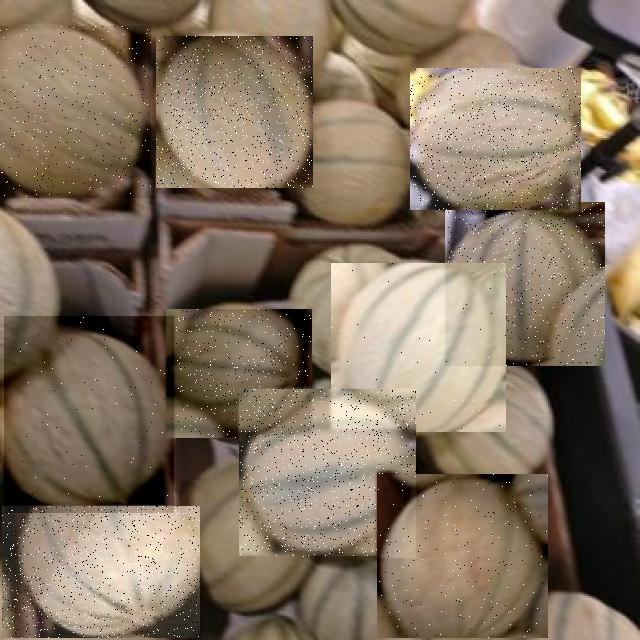Cantaloupe: (4, 316, 174, 513), (239, 390, 416, 558), (331, 263, 506, 432), (377, 475, 548, 639), (445, 202, 605, 366), (2, 506, 200, 638), (0, 26, 151, 198), (410, 68, 581, 210), (156, 36, 313, 188), (166, 309, 312, 438)
